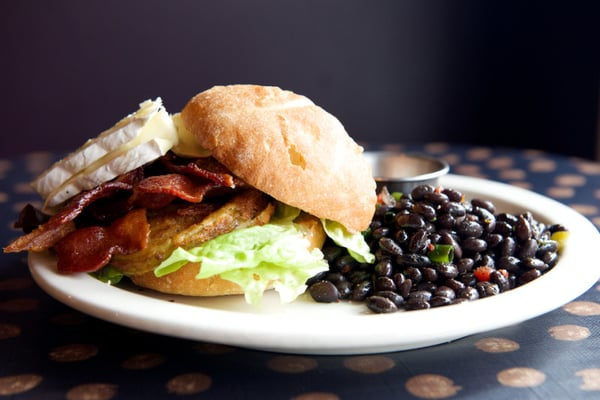soup: (11, 83, 379, 310)
sushi: (369, 151, 451, 197)
